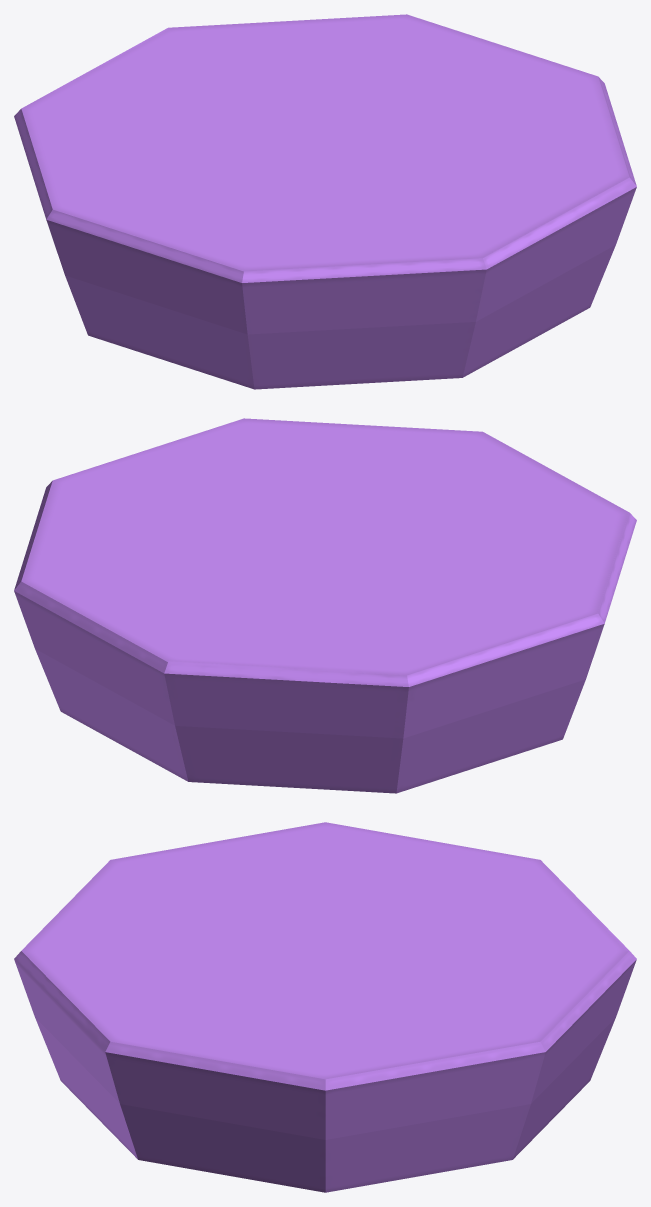
The picture shows the model from 3 angles, top to bottom: view 1: azimuth 30°, elevation 25°; view 2: azimuth 150°, elevation 25°; view 3: azimuth 270°, elevation 25°; orthographic projection. The views are drawn at different scales.
Parts seen in each view (by area): view 1: IU_05; view 2: IU_05; view 3: IU_05.
Boxes of the visible parts, left/top/right/bottom form: IU_05: left=14, top=14, right=636, bottom=389; IU_05: left=14, top=418, right=636, bottom=793; IU_05: left=14, top=822, right=636, bottom=1192.
Bounding box in the file's own units: 0.1246 × 0.0287 × 0.1246.
1 material, 1 textured.
